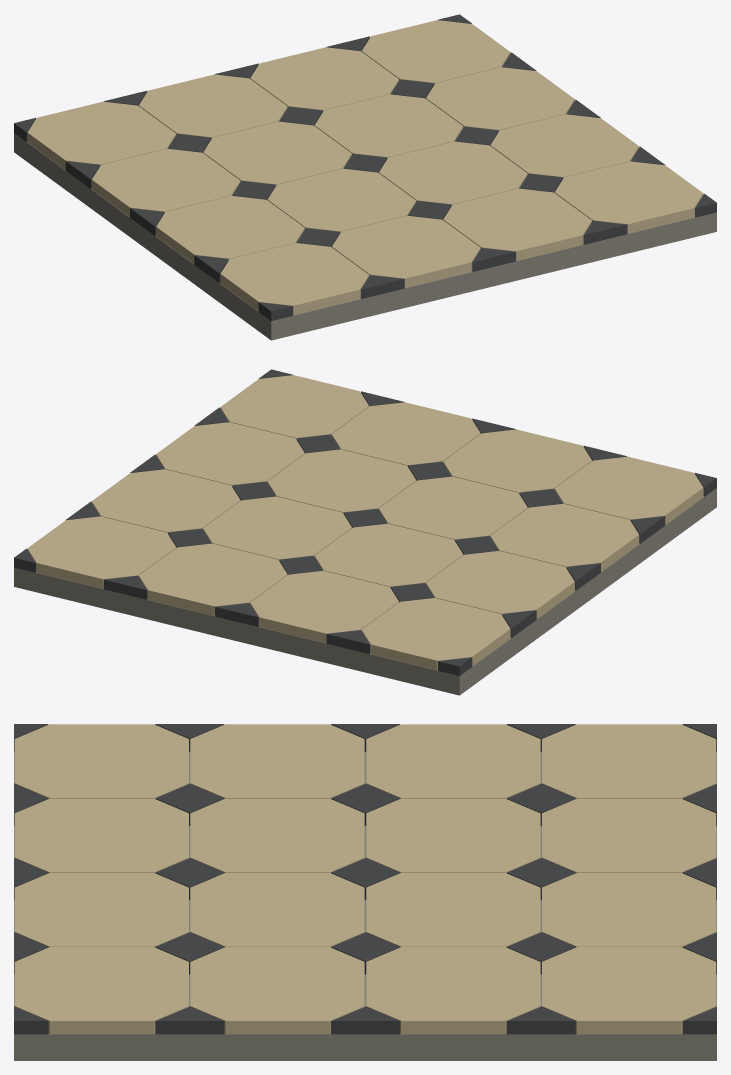
File: rpg-mansion-octagon-cabochon-floor-tile-01.glb
3 renders of one model, top to bottom at view 1: azimuth 30°, elevation 25°; view 2: azimuth 150°, elevation 25°; view 3: azimuth 270°, elevation 25°, orthographic. The views are drawn at different scales.
Visible parts, largest first — view 1: rpg-mansion-octagon-cabochon-floor-tile-01; view 2: rpg-mansion-octagon-cabochon-floor-tile-01; view 3: rpg-mansion-octagon-cabochon-floor-tile-01.
Part boxes in pixels (x1,y1,x2,y2): rpg-mansion-octagon-cabochon-floor-tile-01: [14, 14, 716, 340]; rpg-mansion-octagon-cabochon-floor-tile-01: [14, 369, 716, 695]; rpg-mansion-octagon-cabochon-floor-tile-01: [14, 724, 716, 1060].
Bounding box in the file's own units: 1.2 × 0.075 × 1.2.
